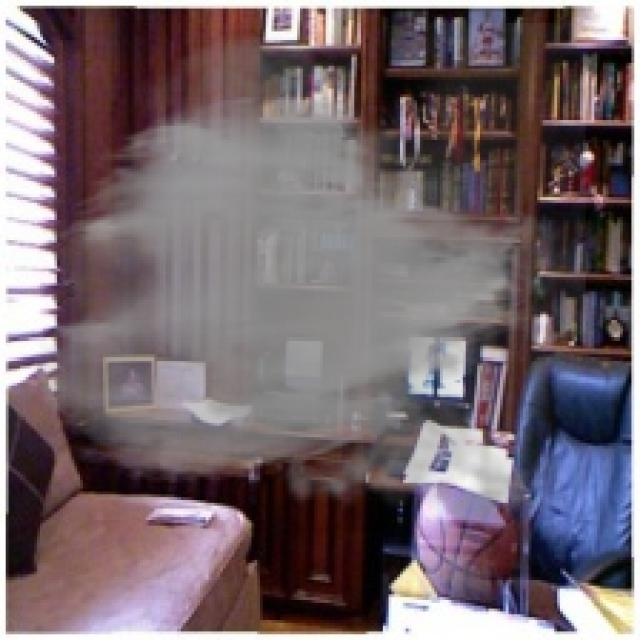smoke: (28, 23, 586, 537)
